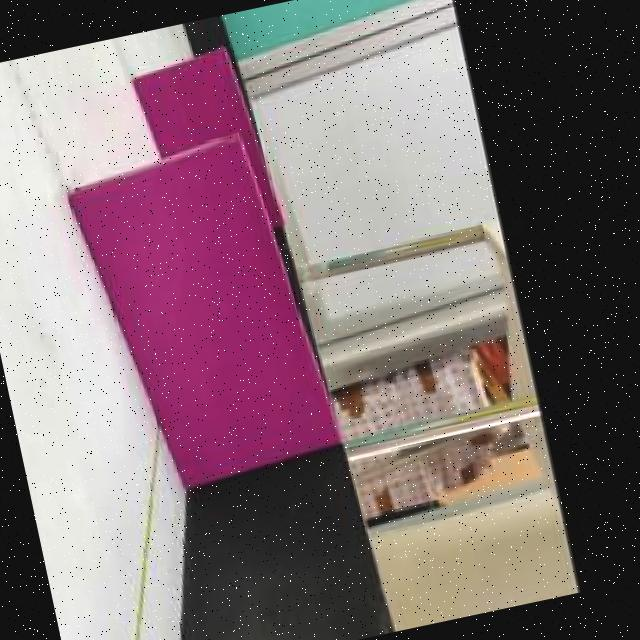xparking: (69, 138, 343, 483), (129, 49, 257, 157)
